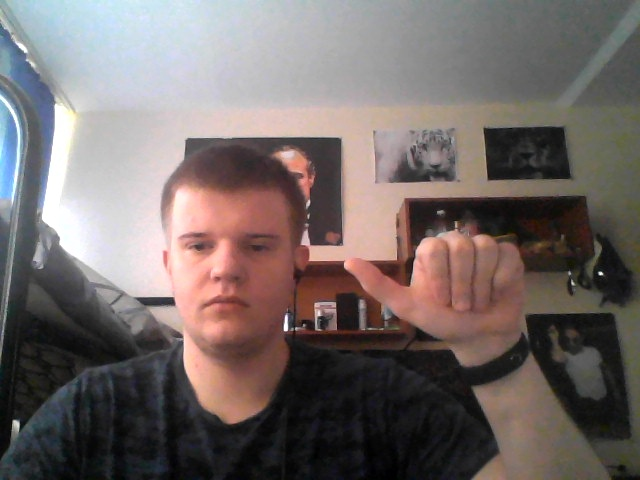bye: (340, 228, 525, 339)
